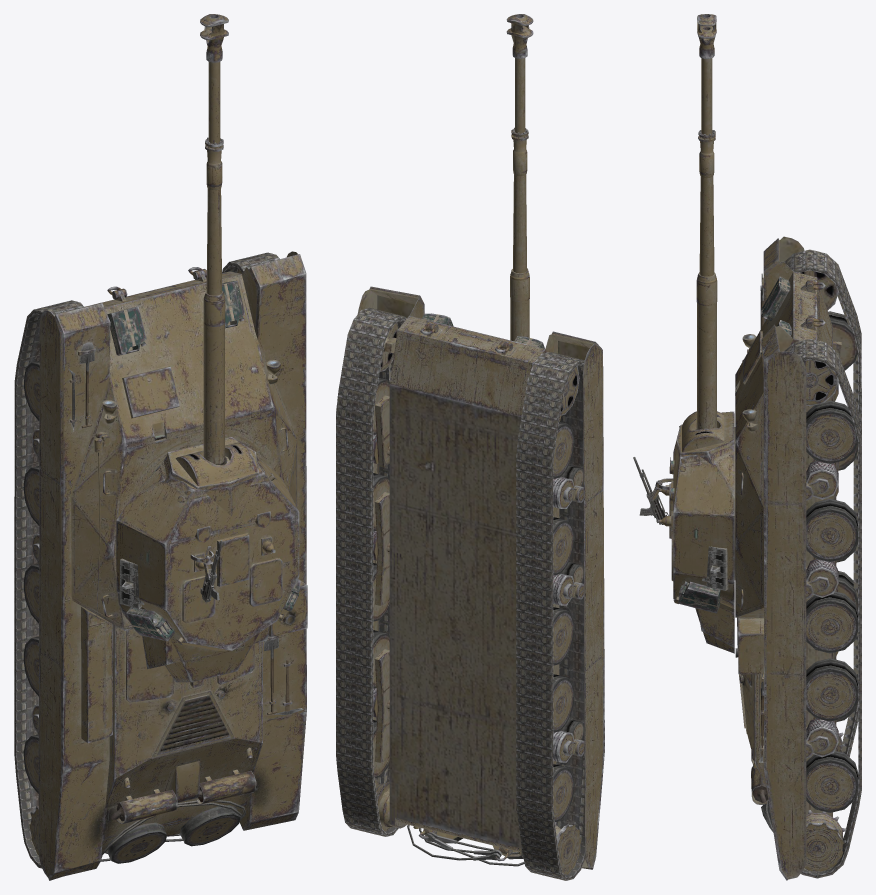
3 views of the same model, side by side, from view 1: azimuth 30°, elevation 25°; view 2: azimuth 150°, elevation 25°; view 3: azimuth 270°, elevation 25° (orthographic). The views are drawn at different scales.
Parts seen in each view (by area): view 1: hull_nc, hull, turret_01, chassis_track_L, turret_01_nc, gun_01, gun_02, turret_02, turret_02_nc, chassis_wheel_L_04, chassis_wheel_L_02, chassis_wheel_L_06 (+3 smaller); view 2: hull, chassis_track_L, hull_nc, chassis_track_R, gun_02, gun_01, chassis_wheel_L_07, chassis_wheel_L_04, chassis_wheel_L_06, chassis_wheel_L_09, chassis_wheel_L_10, chassis_wheel_L_02 (+1 smaller); view 3: hull_nc, hull, turret_01, gun_01, chassis_track_R, chassis_track_L, chassis_wheel_R_07, turret_02_nc, gun_02, chassis_wheel_R_04, chassis_wheel_R_09, chassis_wheel_R_06 (+7 smaller).
Boxes of the visible parts, x1,y1,x2,y2 form: hull_nc: [31, 251, 307, 880]; hull: [71, 271, 297, 852]; turret_01: [116, 442, 299, 650]; chassis_track_L: [14, 300, 84, 868]; turret_01_nc: [126, 473, 300, 682]; gun_01: [203, 137, 224, 459]; gun_02: [200, 14, 228, 465]; turret_02: [118, 437, 270, 619]; turret_02_nc: [119, 471, 299, 669]; chassis_wheel_L_04: [23, 466, 39, 525]; chassis_wheel_L_02: [24, 360, 39, 420]; chassis_wheel_L_06: [23, 564, 39, 623]; hull: [389, 315, 559, 857]; chassis_track_L: [516, 351, 585, 880]; hull_nc: [357, 286, 604, 869]; chassis_track_R: [336, 307, 406, 836]; gun_02: [506, 14, 533, 301]; gun_01: [510, 127, 529, 340]; chassis_wheel_L_07: [553, 674, 574, 732]; chassis_wheel_L_04: [553, 517, 574, 575]; chassis_wheel_L_06: [553, 607, 574, 665]; chassis_wheel_L_09: [553, 764, 574, 822]; chassis_wheel_L_10: [555, 822, 581, 874]; chassis_wheel_L_02: [553, 422, 574, 478]; hull_nc: [735, 236, 841, 880]; hull: [735, 271, 832, 817]; turret_01: [658, 411, 735, 612]; gun_01: [697, 130, 716, 428]; chassis_track_R: [784, 339, 861, 878]; chassis_track_L: [784, 249, 861, 757]; chassis_wheel_R_07: [806, 658, 858, 721]; turret_02_nc: [633, 457, 734, 647]; gun_02: [696, 14, 717, 429]; chassis_wheel_R_04: [806, 499, 857, 561]; chassis_wheel_R_09: [806, 751, 858, 812]; chassis_wheel_R_06: [806, 591, 858, 653].
Bounding box in the file's own units: 3.14 × 10.58 × 2.68.
2 materials, 2 textured.
